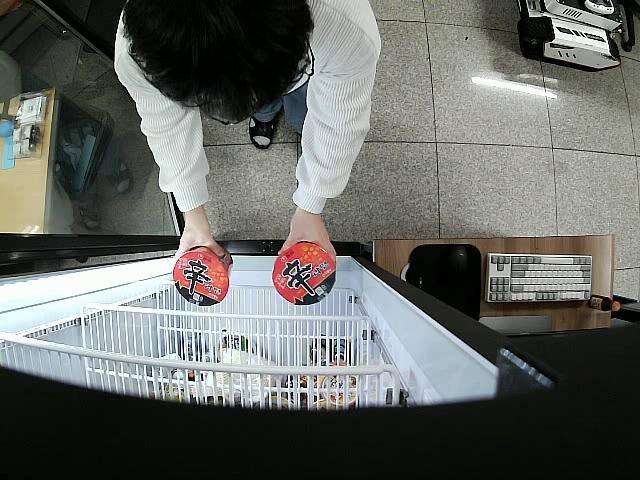00_hand: (278, 204, 337, 269), (175, 223, 225, 257)
01_shinRamen_L: (273, 240, 335, 307), (174, 245, 234, 306)
